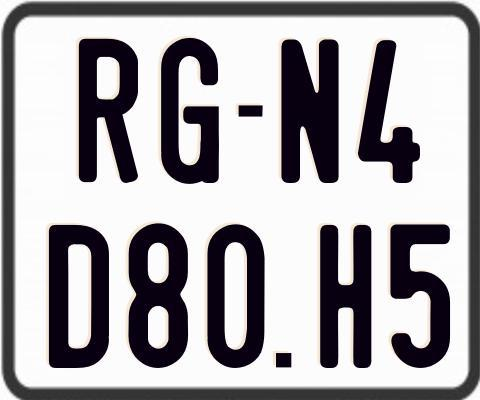0: (204, 224, 262, 369)
4: (356, 37, 422, 181)
5: (388, 221, 454, 371)
8: (127, 221, 187, 370)
D: (49, 223, 110, 369)
G: (159, 35, 221, 182)
H: (318, 224, 375, 368)
N: (281, 38, 342, 184)
R: (78, 38, 139, 184)
